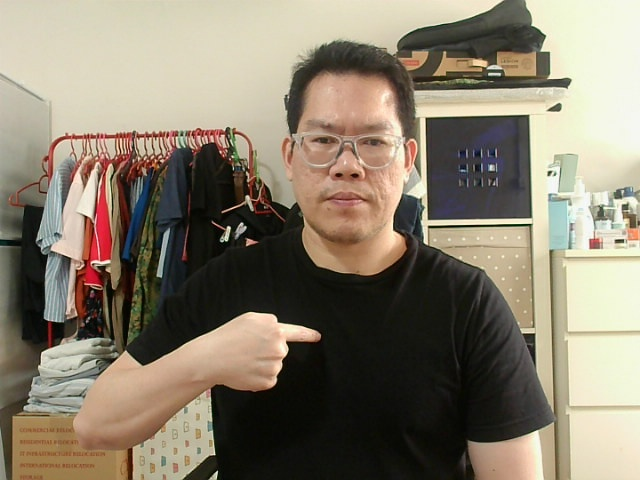I: (211, 318, 318, 383)
